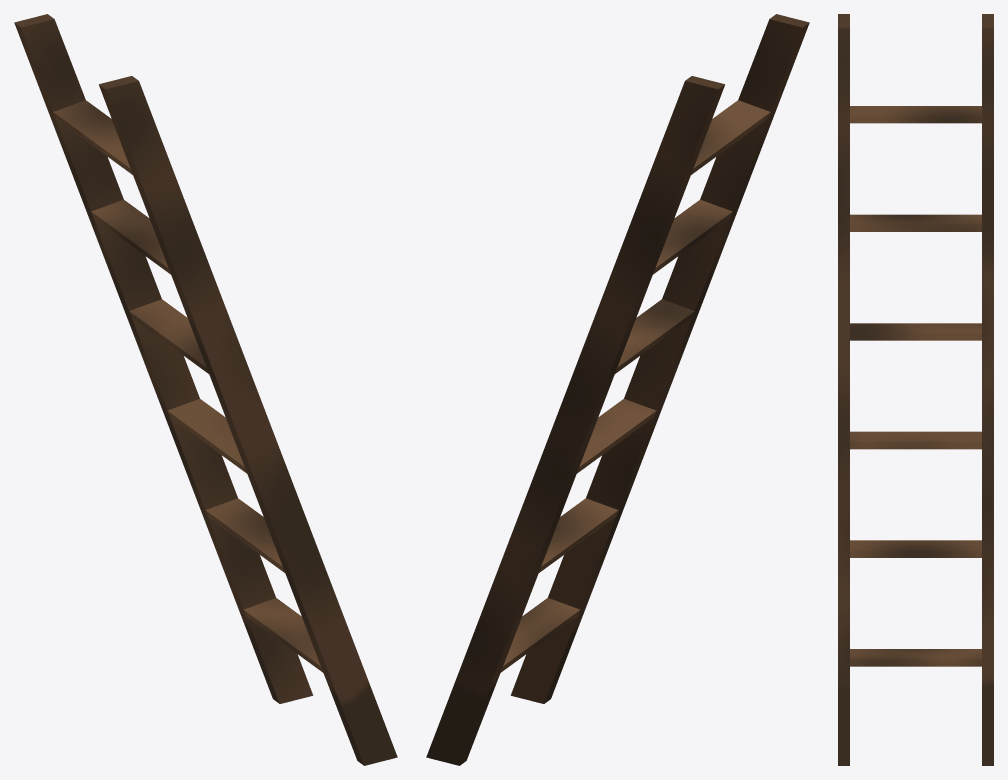
The model's file is Stairs.fbx.
3 renders of one model, left to right at view 1: azimuth 30°, elevation 25°; view 2: azimuth 150°, elevation 25°; view 3: azimuth 270°, elevation 25°, orthographic. The views are drawn at different scales.
Parts seen in each view (by area): view 1: Cylinder; view 2: Cylinder; view 3: Cylinder.
Boxes of the visible parts, x1=… form: Cylinder: x1=14, y1=14, x2=397, y2=765; Cylinder: x1=426, y1=14, x2=809, y2=765; Cylinder: x1=838, y1=14, x2=993, y2=765.
Bounding box in the file's own units: 534 × 1292 × 289.
